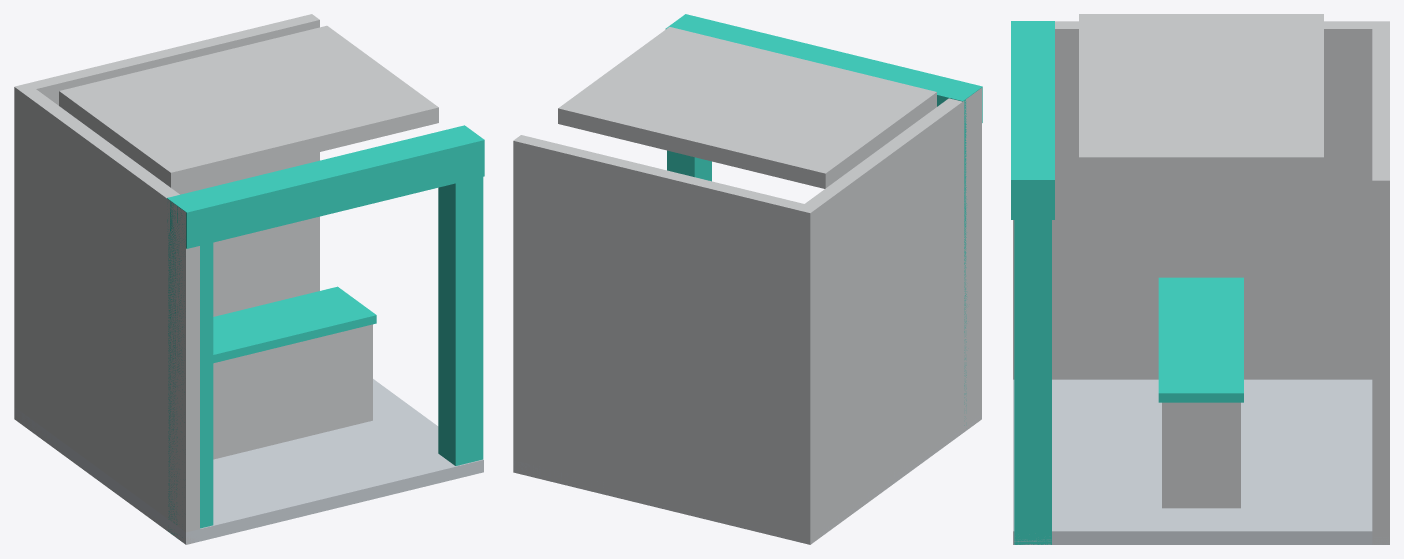
The picture shows the model from 3 angles, left to right: view 1: azimuth 30°, elevation 25°; view 2: azimuth 150°, elevation 25°; view 3: azimuth 270°, elevation 25°; orthographic projection. The views are drawn at different scales.
Visible parts, largest first — view 1: Exhibition Booth Concept; view 2: Exhibition Booth Concept; view 3: Exhibition Booth Concept.
Part boxes in pixels (x1,y1,x2,y2): Exhibition Booth Concept: [14, 14, 484, 544]; Exhibition Booth Concept: [513, 14, 982, 544]; Exhibition Booth Concept: [1011, 14, 1389, 544].
Bounding box in the file's own units: 3 × 3.34 × 3.01.
